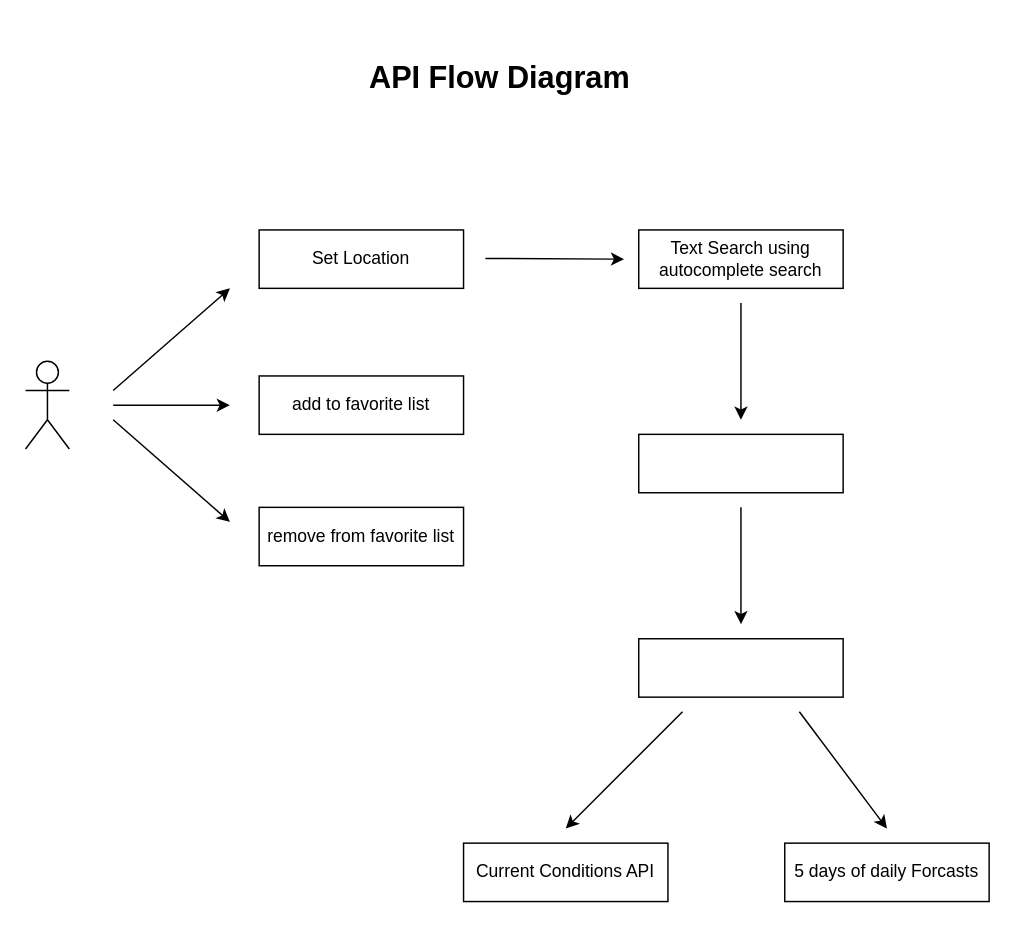
This 1015x927 diagram has some shape labels left out. The centre of each missing label's shape, as x and y in pixels:
obtain locationKey from api response: point (740, 463)
use locationKey to call outher APIs: point (740, 667)
User: point (46, 404)
